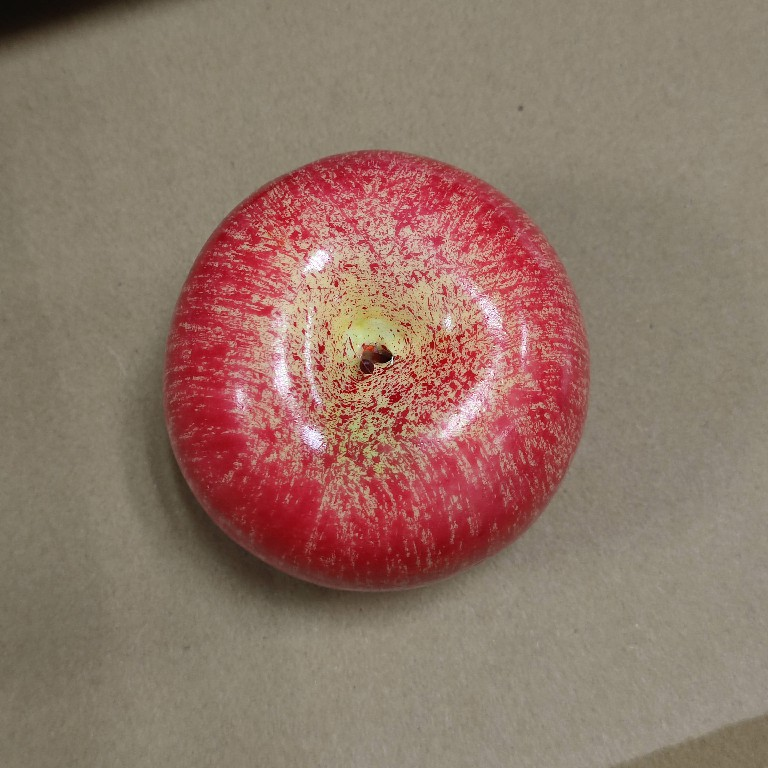fruit_apple: (156, 139, 604, 606)
